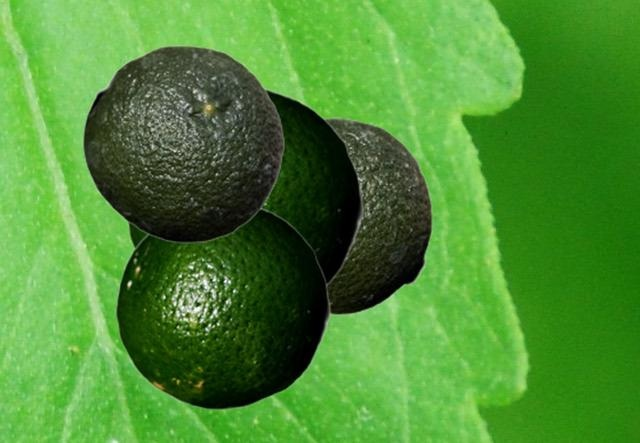calamansi: (125, 86, 363, 287), (115, 205, 330, 409), (82, 45, 284, 242), (325, 117, 432, 314)
